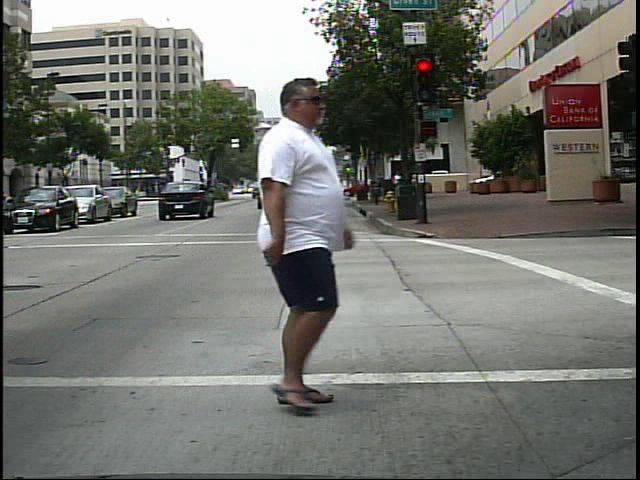person: (211, 73, 361, 415)
